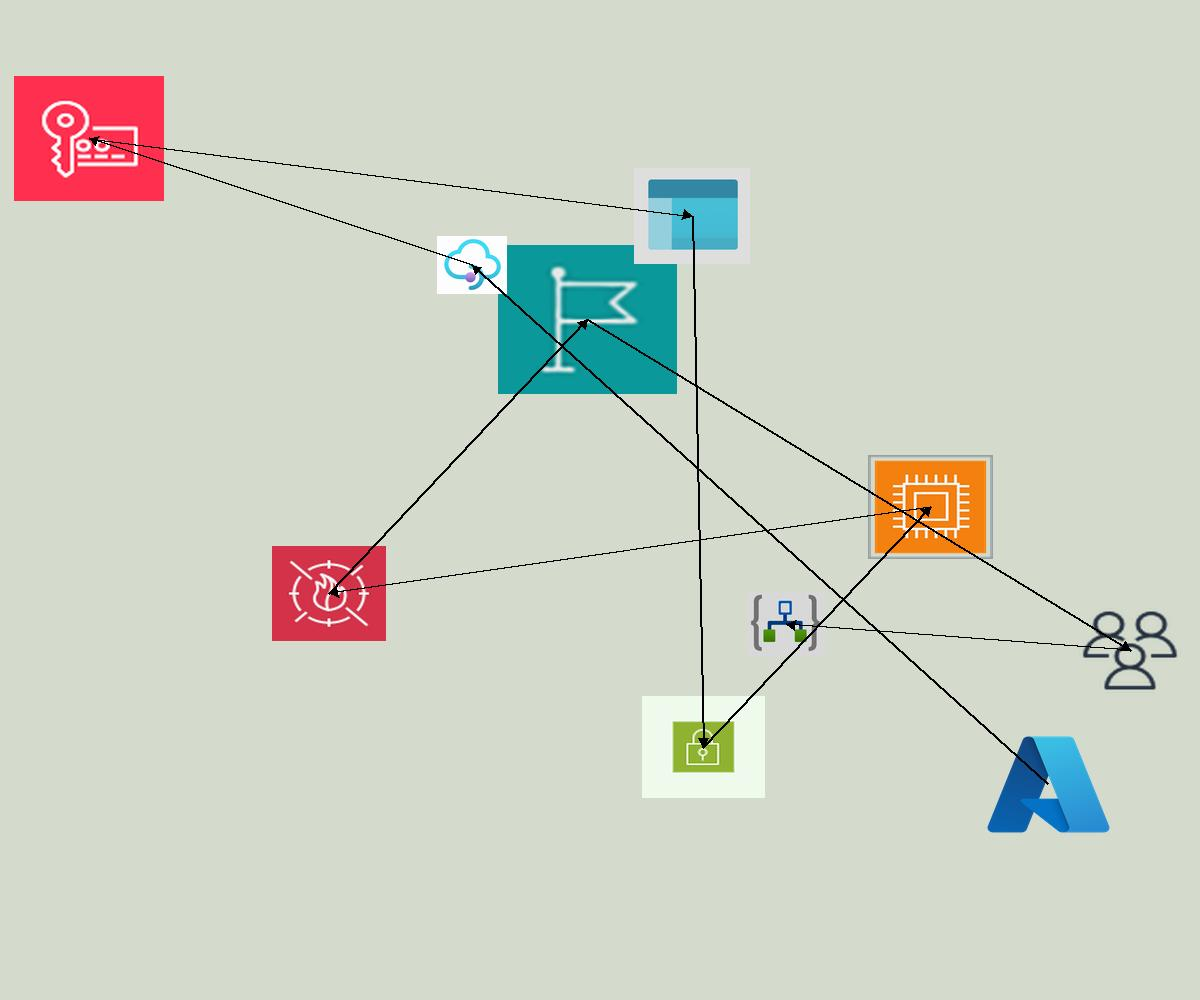AWS-Category_Compute: (868, 455, 993, 559)
AWS-Key-Management-Service: (14, 76, 164, 201)
AWS-Public-subnet: (642, 696, 765, 798)
AWS-Region: (498, 245, 677, 394)
AWS-Res_Users: (1079, 608, 1181, 693)
AWS-WAF: (272, 546, 386, 641)
Azure_api_gateway: (437, 236, 507, 294)
Azure_integration-204-Logic-Apps: (747, 592, 825, 657)
Azure_management-portal: (634, 168, 750, 264)
Azure_services: (982, 729, 1115, 840)
